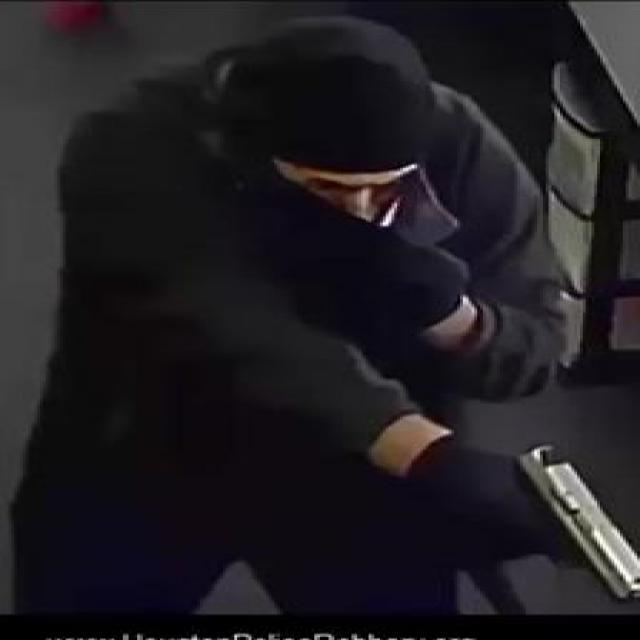Gun: (454, 436, 637, 602)
